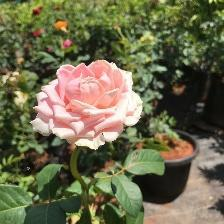rose: (32, 60, 147, 152)
